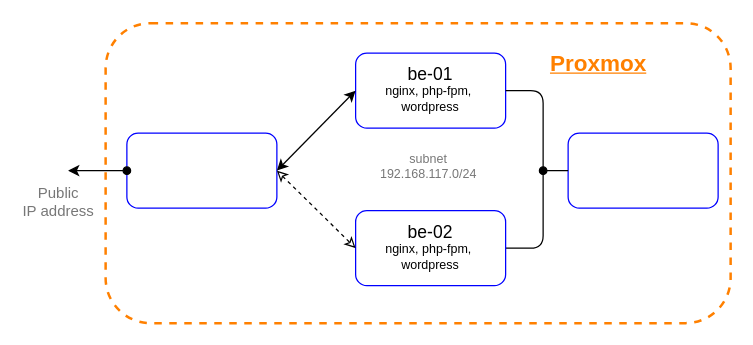
The diagram is 753 pixels wide and 345 high, and some of its shapes have lost their labels. Each missing label, with the centre of its shape:
"db-01 percona-server" goes at (x=642, y=170).
"lb-01 nginx (upstream)" goes at (x=201, y=170).
